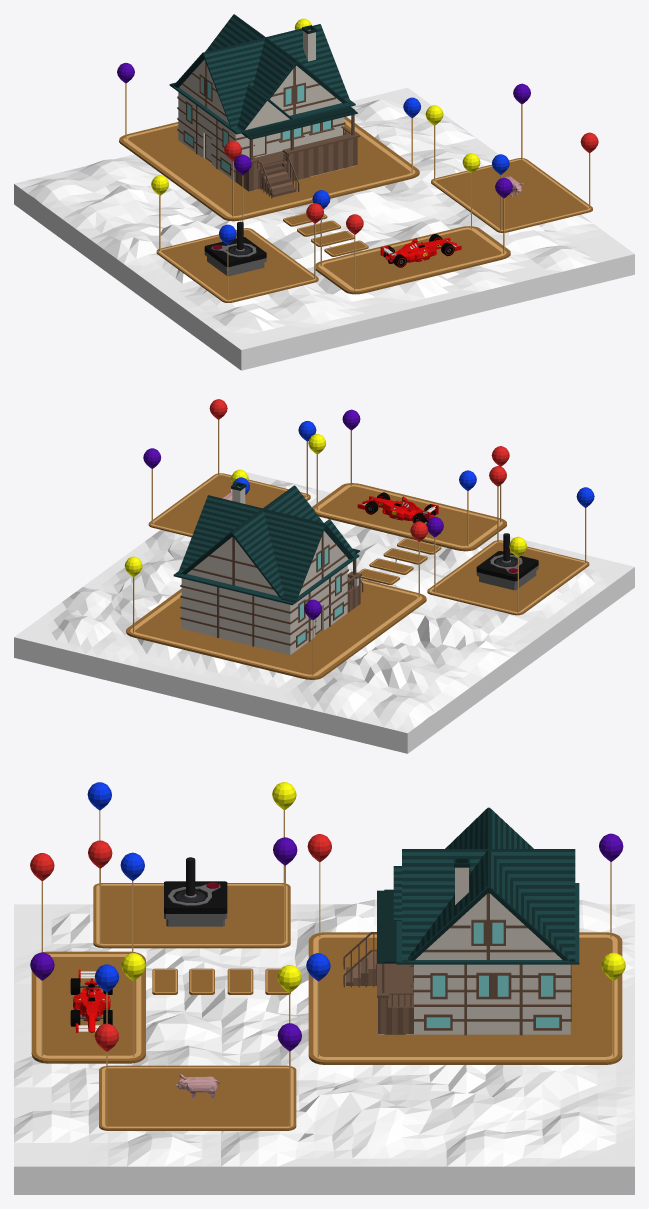
3 renders of one model, top to bottom at view 1: azimuth 30°, elevation 25°; view 2: azimuth 150°, elevation 25°; view 3: azimuth 270°, elevation 25°, orthographic. The views are drawn at different scales.
Parts seen in each view (by area): view 1: Cube.013, Cube.793, OBJRANDOM_JOYSTICK, VEHICLES_FORMULA_1; view 2: Cube.013, Cube.793, OBJRANDOM_JOYSTICK, VEHICLES_FORMULA_1; view 3: Cube.013, Cube.793, OBJRANDOM_JOYSTICK, VEHICLES_FORMULA_1, ANIMAL_CERDO.
Part boxes in pixels (<box>): Cube.013: <box>14,18,634,370</box>; Cube.793: <box>169,14,360,198</box>; OBJRANDOM_JOYSTICK: <box>204,221,266,276</box>; VEHICLES_FORMULA_1: <box>380,234,461,267</box>; Cube.013: <box>14,399,634,753</box>; Cube.793: <box>173,482,363,654</box>; OBJRANDOM_JOYSTICK: <box>476,533,538,590</box>; VEHICLES_FORMULA_1: <box>357,492,438,522</box>; Cube.013: <box>14,782,634,1194</box>; Cube.793: <box>343,807,579,1035</box>; OBJRANDOM_JOYSTICK: <box>164,857,227,926</box>; VEHICLES_FORMULA_1: <box>70,969,112,1032</box>; ANIMAL_CERDO: <box>176,1074,219,1099</box>.
Size of the model in its own units: 4000 by 1704 by 4000.
Materials: 35 (2 with a texture image).
